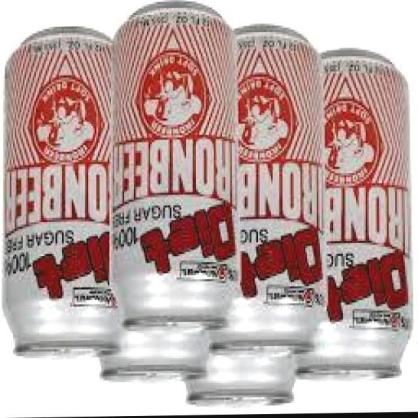can: (112, 7, 236, 330), (2, 26, 122, 359), (322, 51, 414, 378), (229, 27, 320, 352)
